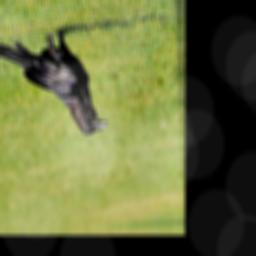Crow: (0, 22, 111, 144)
